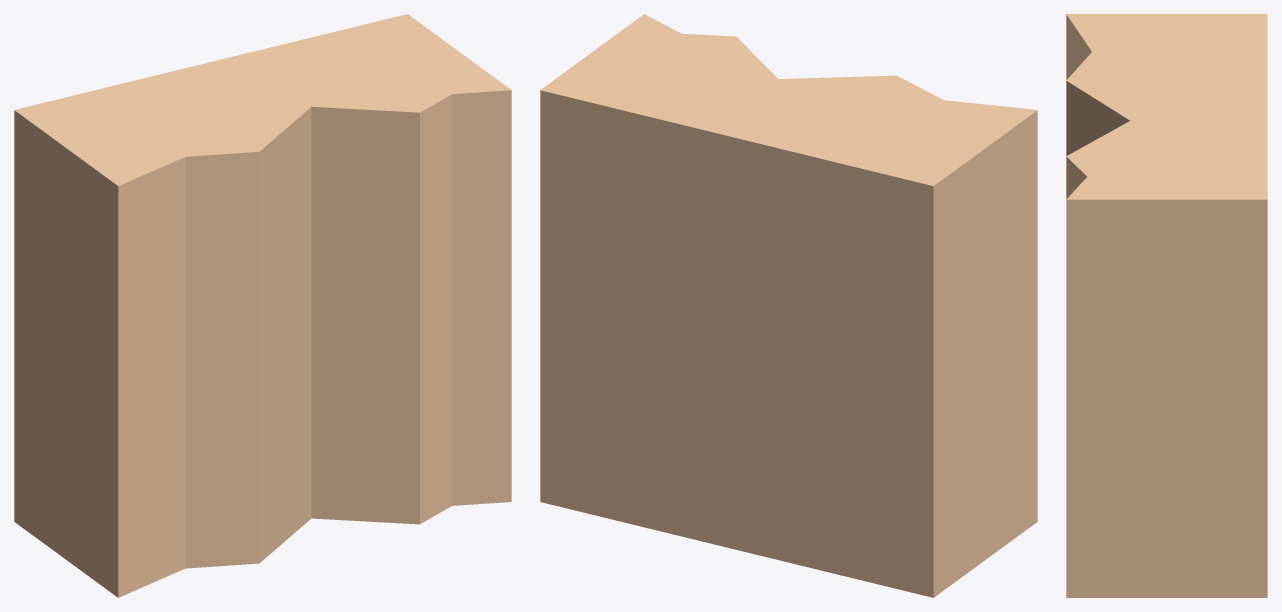
Rendered from cliffBrown.gltf.
The picture shows the model from 3 angles, left to right: view 1: azimuth 30°, elevation 25°; view 2: azimuth 150°, elevation 25°; view 3: azimuth 270°, elevation 25°; orthographic projection. The views are drawn at different scales.
Visible parts, largest first — view 1: cliffBrown; view 2: cliffBrown; view 3: cliffBrown.
Boxes of the visible parts, x1=… form: cliffBrown: x1=14, y1=14, x2=511, y2=597; cliffBrown: x1=540, y1=14, x2=1037, y2=597; cliffBrown: x1=1066, y1=14, x2=1267, y2=597.
Size of the model in its own units: 10 by 10 by 4.58.
